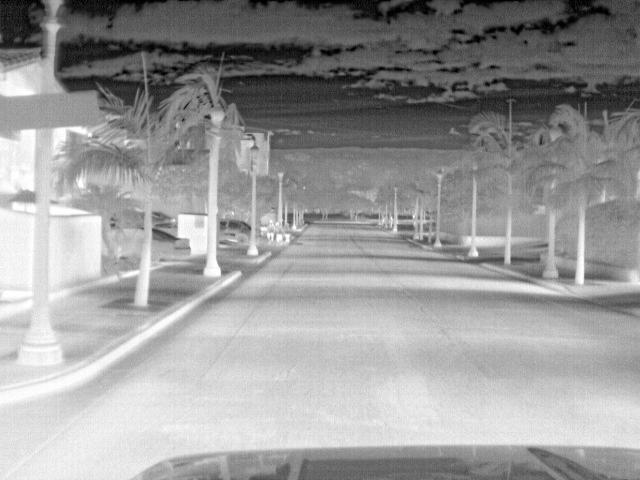car: (153, 228, 193, 264), (105, 227, 143, 261), (219, 220, 252, 250)
person: (281, 220, 295, 250), (273, 216, 288, 243), (265, 218, 277, 240)
